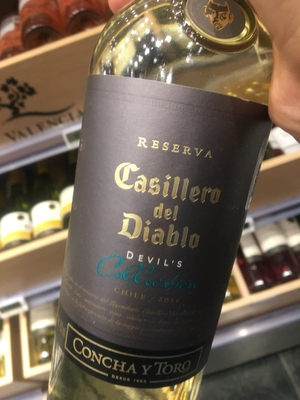casillero del diablo devils collection verde: (48, 36, 274, 400)
